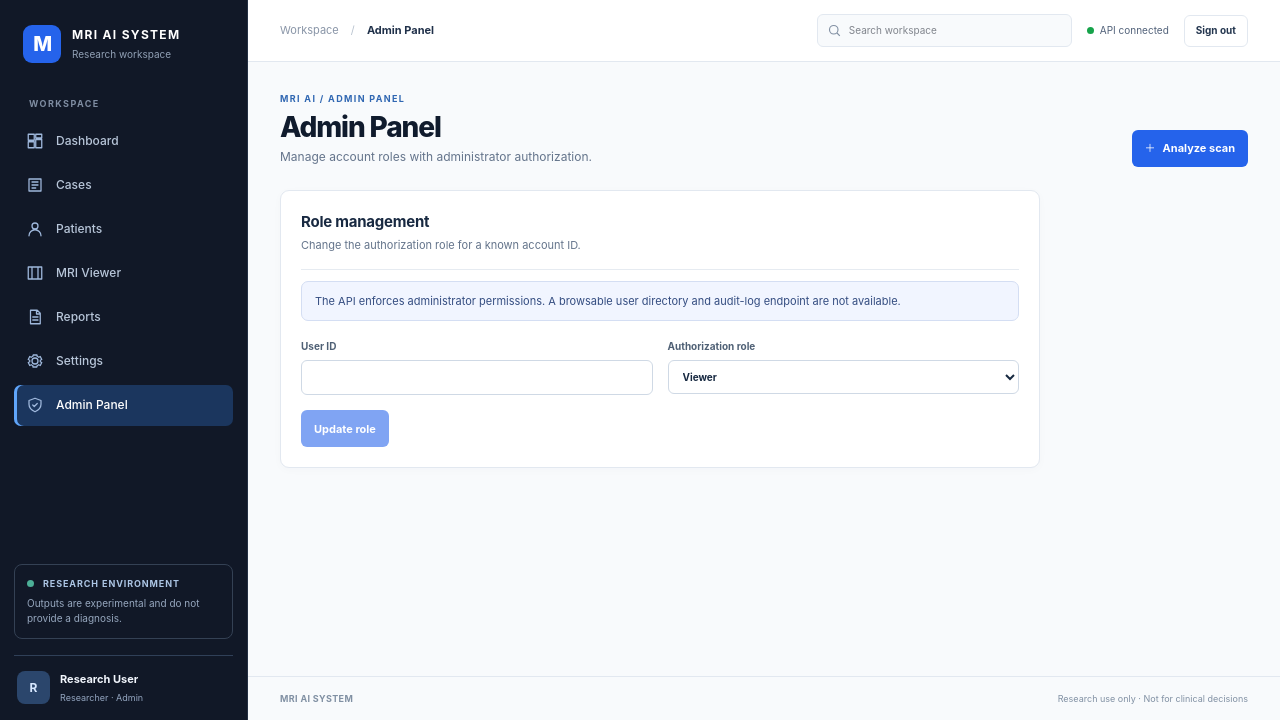
Test case: MRI research workspace › allows administrators to update a role through the protected backend route
Type "user-2" into the field labelled "User ID" at (477, 378), box [301, 360, 652, 395]
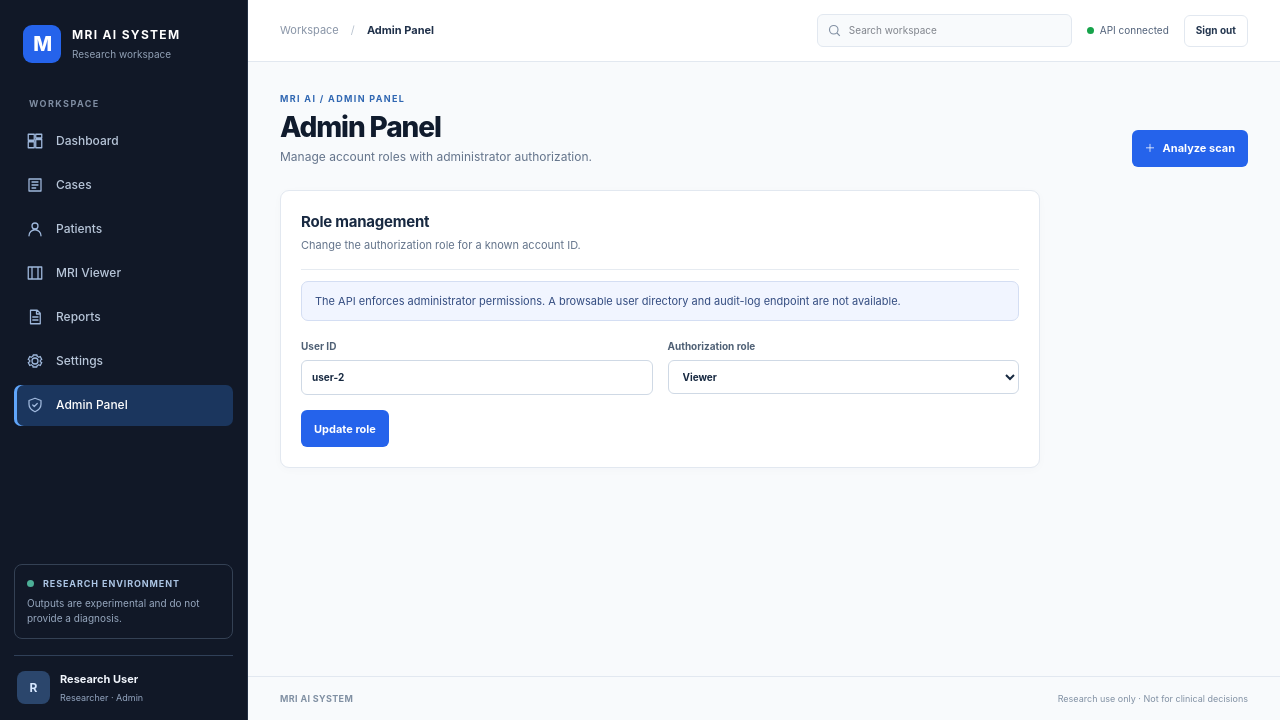
Select "Radiologist" in the dropdown labelled "Authorization role" at (843, 377), box [668, 360, 1019, 394]
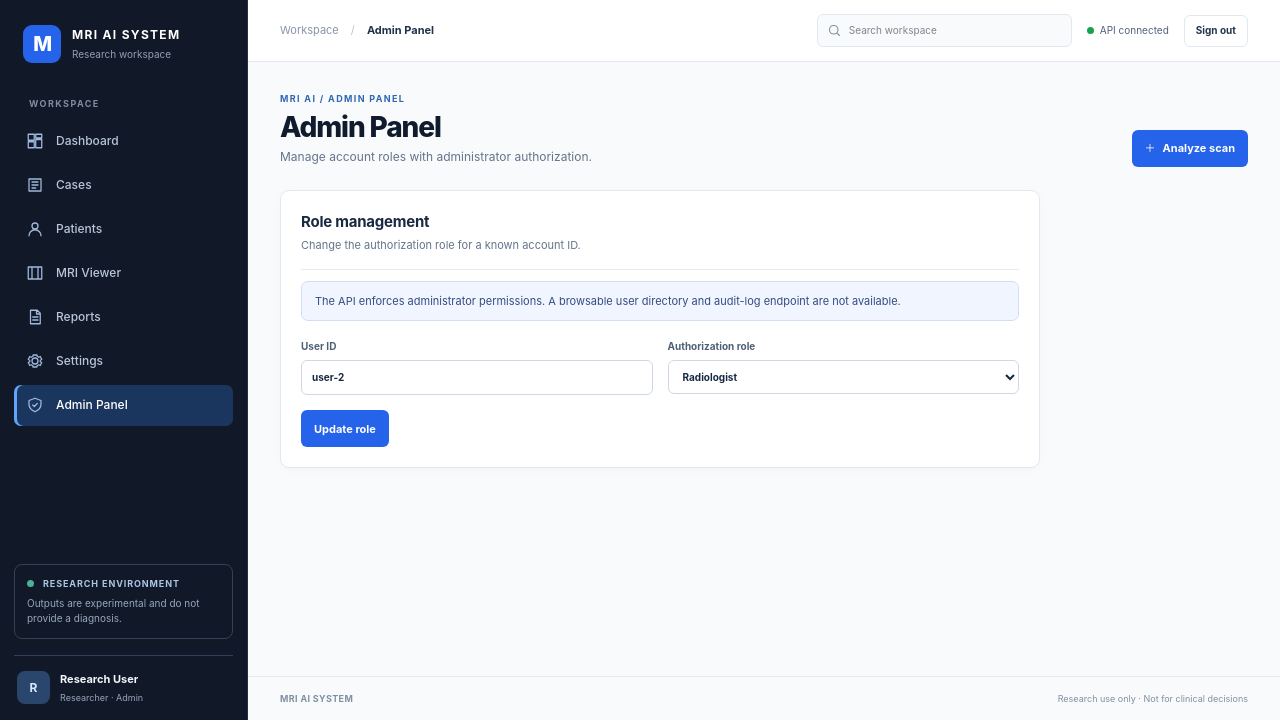
Click the button "Update role" at (345, 429), box [301, 410, 389, 447]
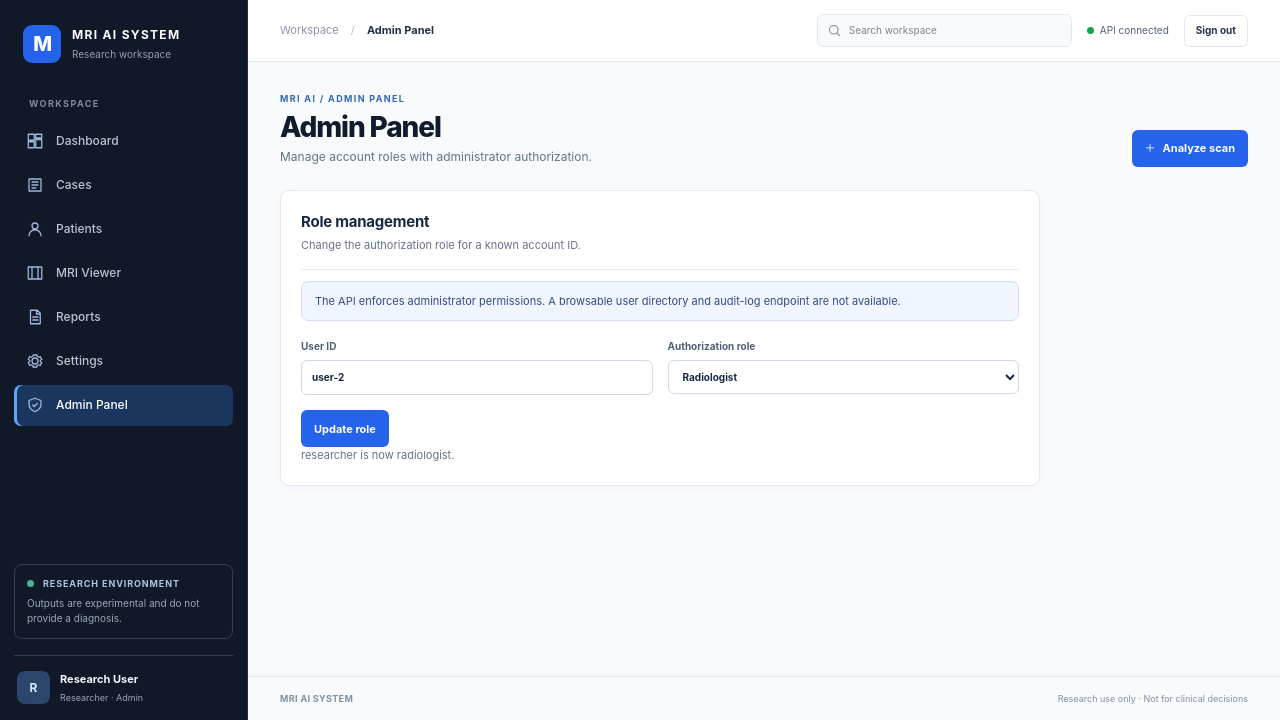
Expected: the text "audit-log endpoint are not available" is shown, [315, 294, 901, 308]
Expected: the text "researcher is now radiologist." is shown, [301, 448, 454, 462]
